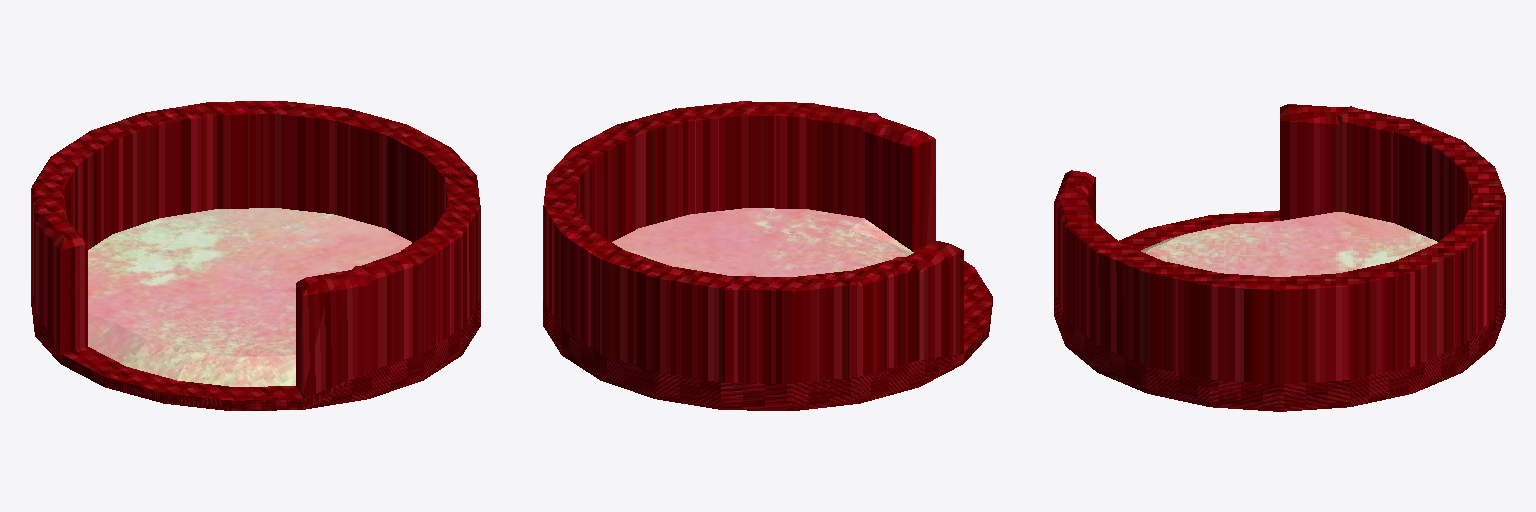
3 views of the same model, side by side, from view 1: azimuth 30°, elevation 25°; view 2: azimuth 150°, elevation 25°; view 3: azimuth 270°, elevation 25° (orthographic).
Parts seen in each view (by area): view 1: pCylinder1; view 2: pCylinder1; view 3: pCylinder1.
Boxes of the visible parts, box(x1,y1,x2,y2) form: pCylinder1: box(31, 101, 480, 410); pCylinder1: box(543, 101, 992, 410); pCylinder1: box(1054, 104, 1505, 411).
Size of the model in its own units: 6 by 1.78 by 6.
3 materials, 3 textured.